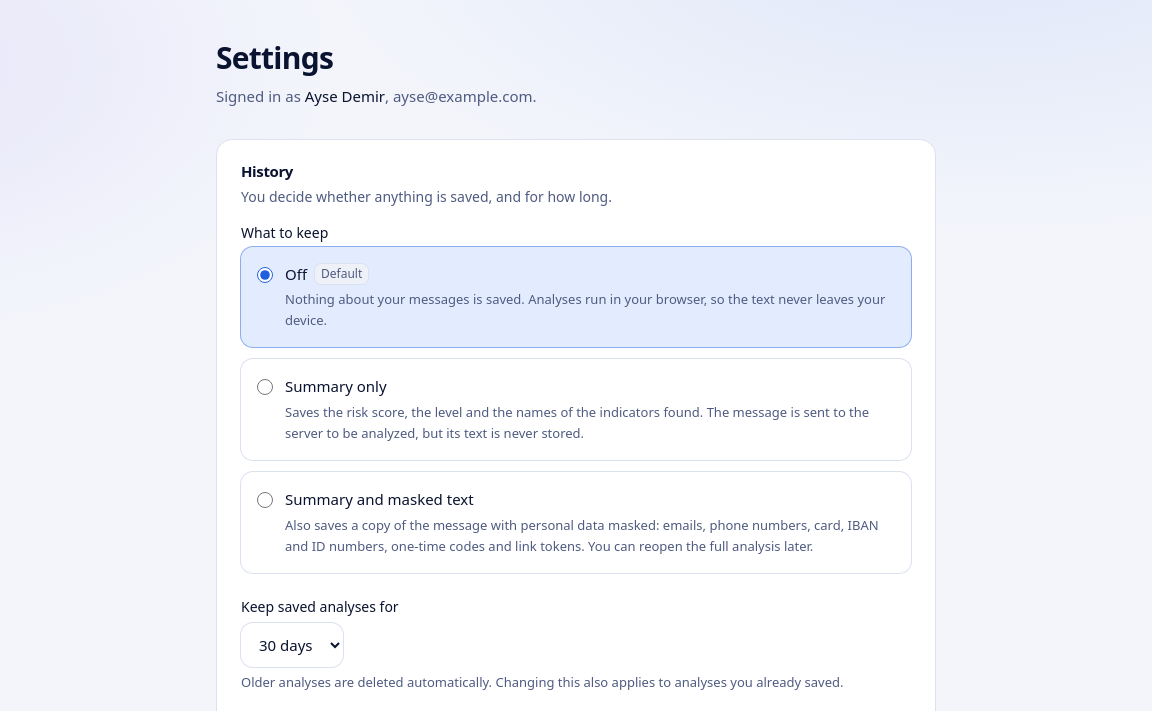
SettingsPage › saves a changed mode and retention, then confirms
Click the radio button labelled "Summary only".
click(265, 387)  # box [257,379,273,395]
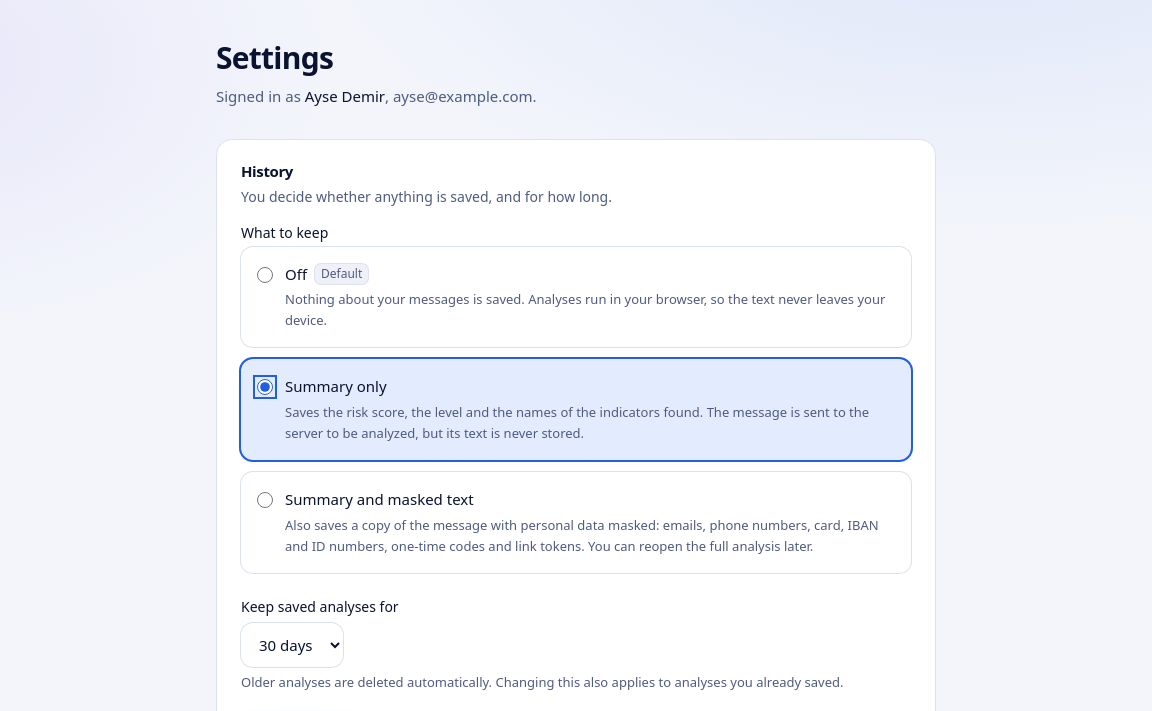
Select "90 days" in the dropdown labelled "Keep saved analyses for" at point(292, 645), box [241,623,343,667]
(page scrolled)
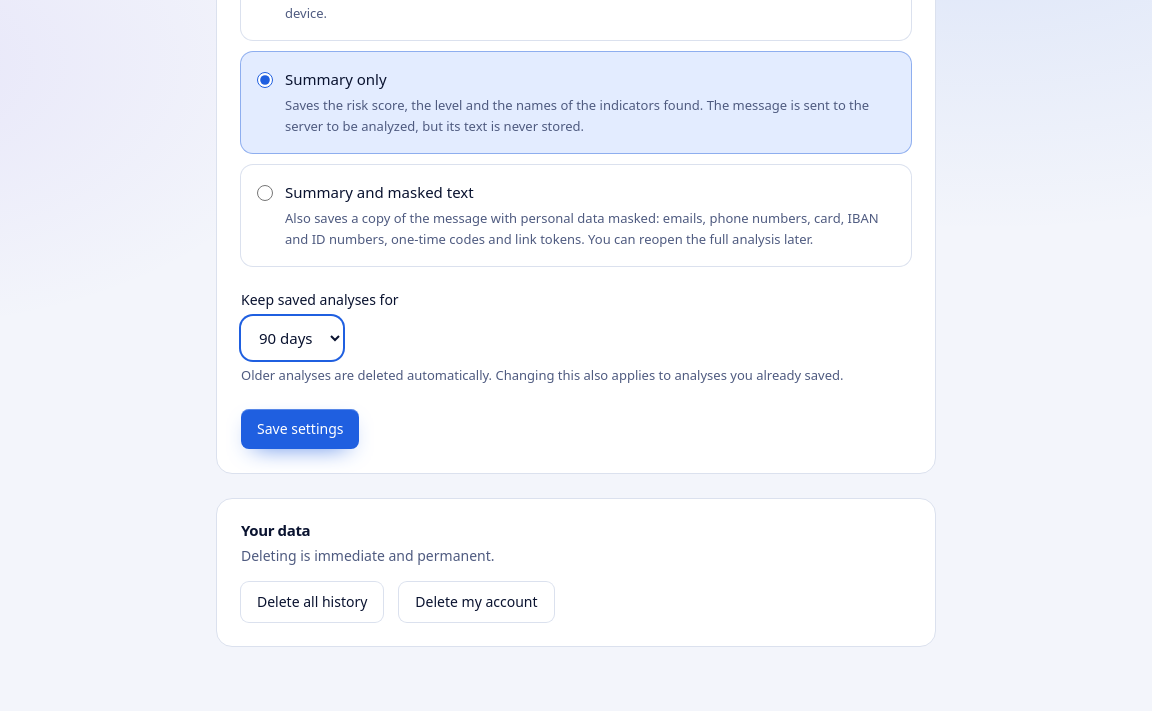
Click the button "Save settings".
click(300, 429)  # box [241,409,360,449]
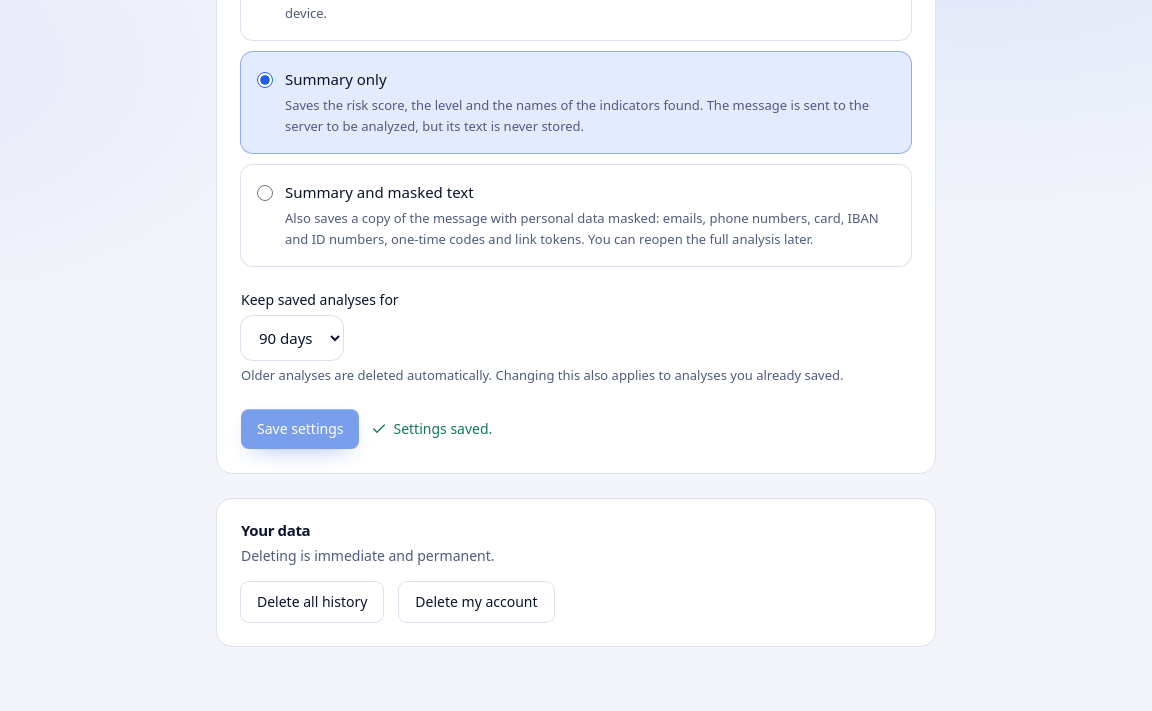
Now the text "Settings saved." is shown, box [372,419,492,439]
Now the button "Save settings" is disabled, box [241,409,360,449]
